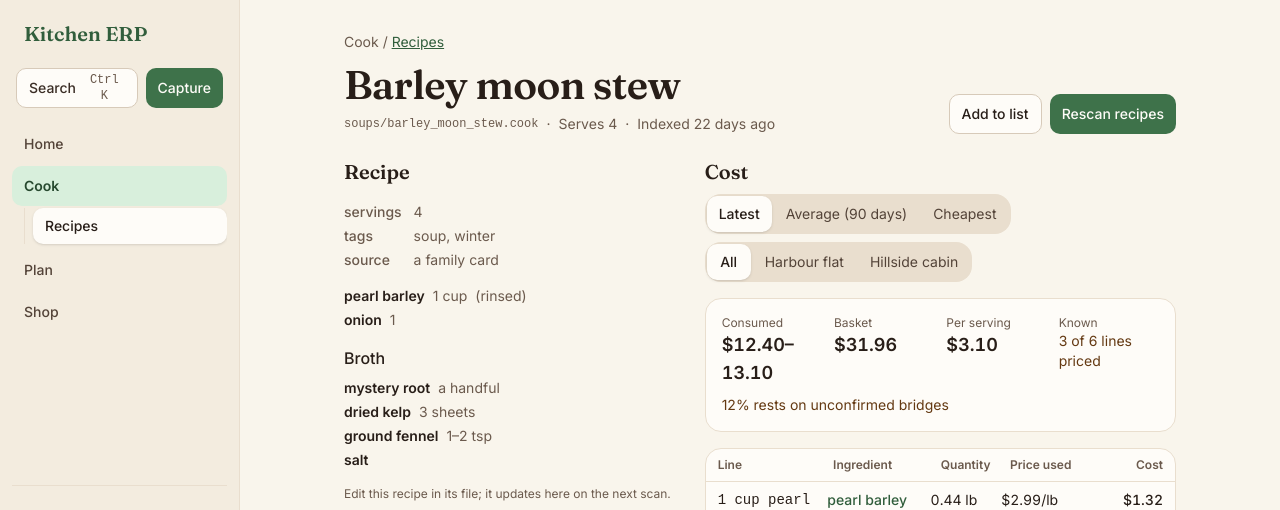
Scenario: the cost table's kitchen control (UI-8.8) › sits beside the basis control, asks the server with home_base_id and keeps it in the URL
This screenshot has width=1280, height=510.
Check: the element named "Basis" is shown, box x1=705 y1=194 x2=1010 y2=234
Step 1. Click the button "Hillside cabin" → [914, 262], box x1=858 y1=244 x2=970 y2=280
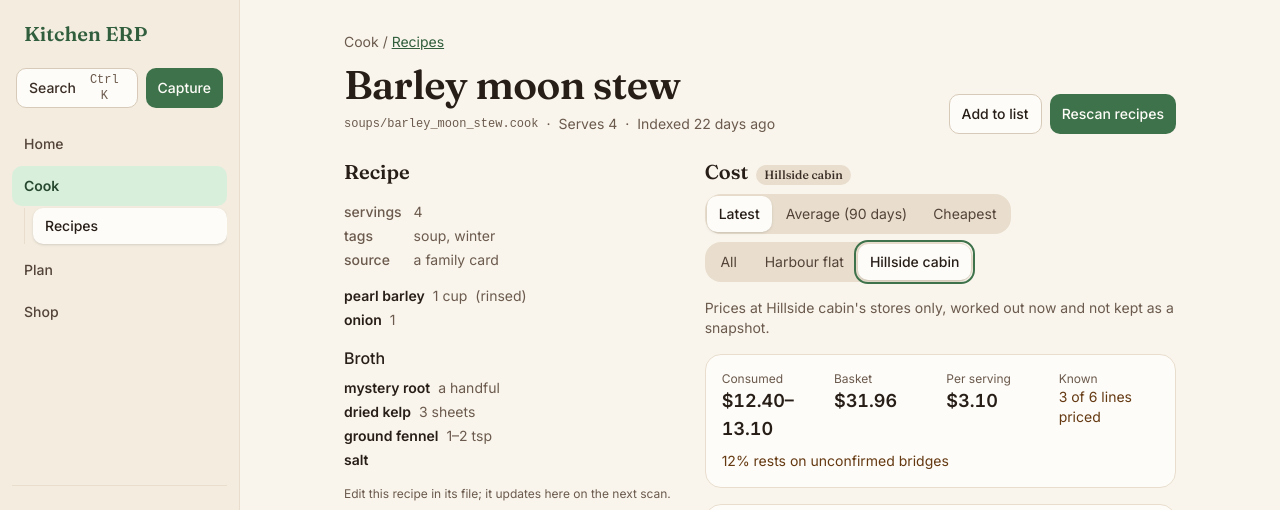
Check: the element with test id "kitchen-tag" reads "Hillside cabin", box x1=764 y1=167 x2=843 y2=182
Check: the text with test id "kitchen-cost-note" shows "Prices at Hillside cabin's stores only", box x1=705 y1=298 x2=1176 y2=338
